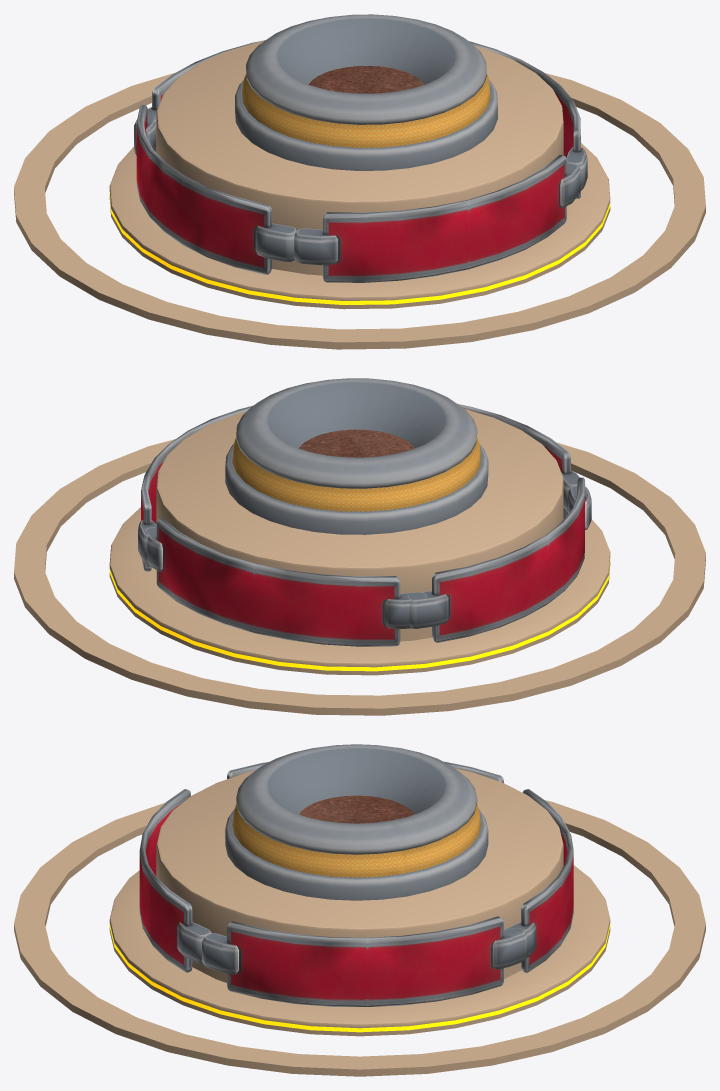
Rendered from center.glb.
3 views of the same model, one above another, from view 1: azimuth 30°, elevation 25°; view 2: azimuth 150°, elevation 25°; view 3: azimuth 270°, elevation 25° (orthographic).
Parts seen in each view (by area): view 1: Cylinder.016, BaseTree.003, Cylinder.015, SignMinigames.001, SignMinigames.003; view 2: Cylinder.016, BaseTree.003, Cylinder.015, SignMinigames.001, SignMinigames.003; view 3: Cylinder.016, BaseTree.003, Cylinder.015, SignMinigames.003, SignMinigames.001.
Boxes of the visible parts, box(x1,y1,x2,y2) form: Cylinder.016: box(109, 40, 610, 309); BaseTree.003: box(235, 14, 497, 170); Cylinder.015: box(14, 73, 705, 349); SignMinigames.001: box(147, 40, 580, 282); SignMinigames.003: box(134, 41, 587, 275); Cylinder.016: box(109, 409, 610, 675); BaseTree.003: box(225, 378, 488, 534); Cylinder.015: box(14, 439, 705, 715); SignMinigames.001: box(145, 404, 585, 646); SignMinigames.003: box(138, 405, 591, 642); Cylinder.016: box(109, 768, 610, 1036); BaseTree.003: box(225, 744, 488, 900); Cylinder.015: box(14, 800, 705, 1076); SignMinigames.003: box(202, 761, 527, 1006); SignMinigames.001: box(139, 789, 573, 972).
Size of what is drawn, in the model's own units: 9.19 by 2.16 by 9.19.
4 materials, 2 textured.
